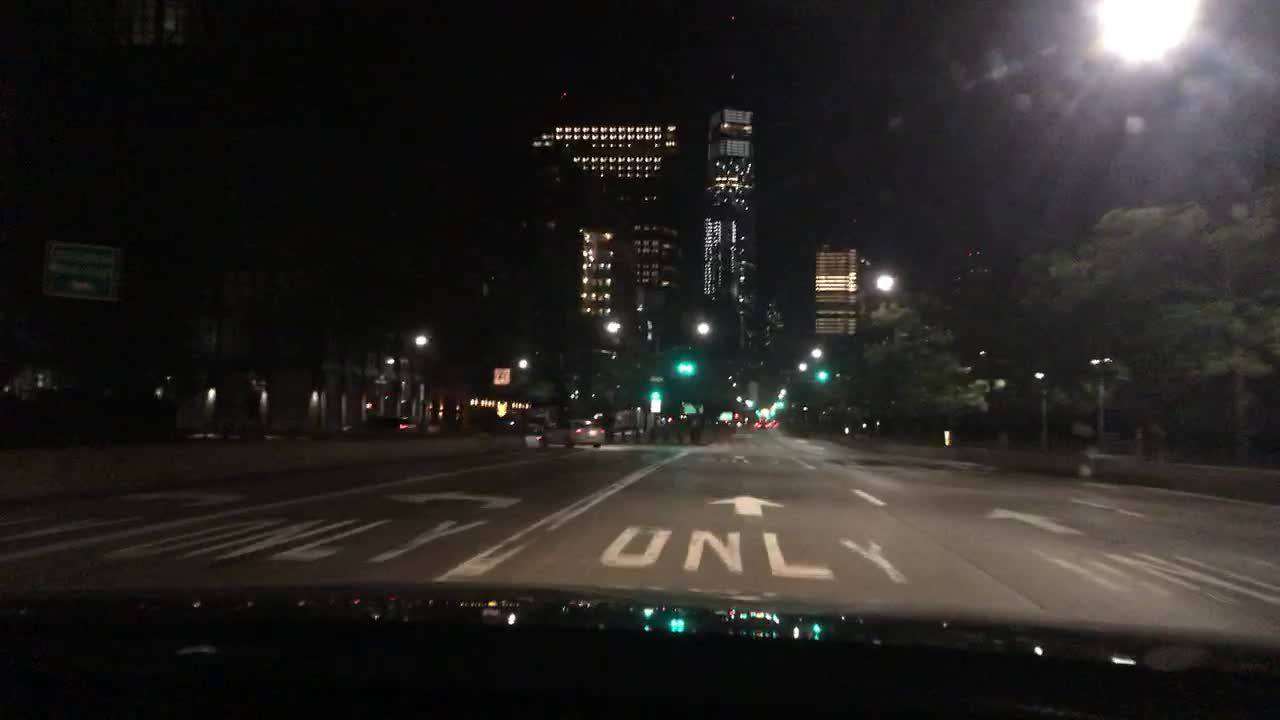car: (538, 417, 605, 448), (338, 414, 426, 436), (752, 422, 767, 431), (755, 419, 768, 427), (767, 419, 777, 427)
traffic light: (676, 361, 695, 374), (815, 368, 828, 383), (648, 390, 660, 401)
traffic sign: (45, 241, 117, 300), (493, 366, 510, 386), (494, 401, 507, 417), (683, 403, 703, 412), (716, 412, 732, 421), (650, 400, 661, 413)
